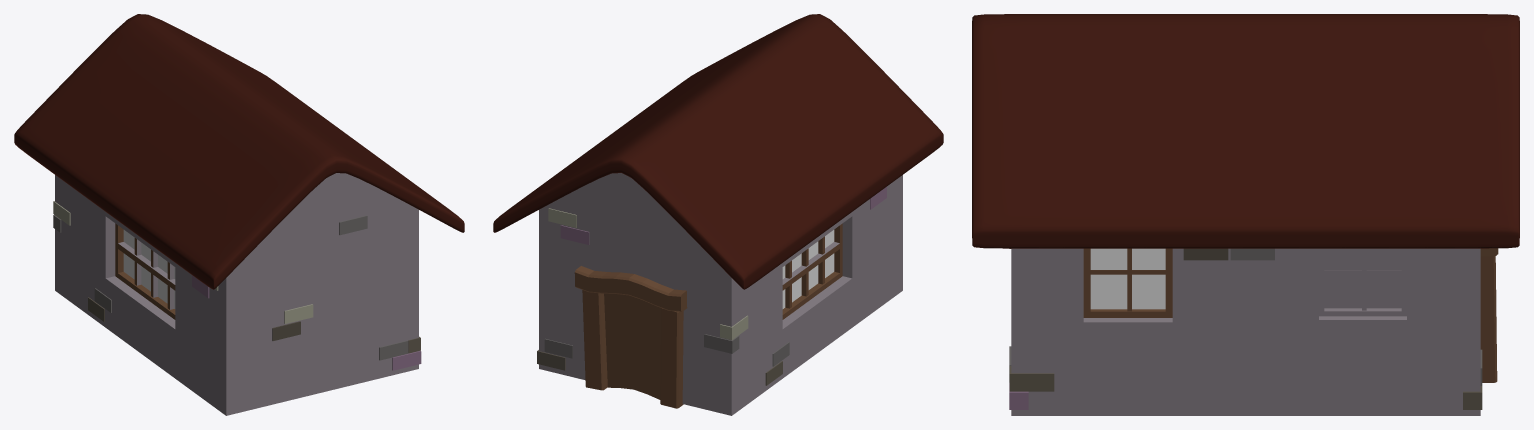
The model's file is house_R1.fbx.
3 views of the same model, side by side, from view 1: azimuth 30°, elevation 25°; view 2: azimuth 150°, elevation 25°; view 3: azimuth 270°, elevation 25° (orthographic). The views are drawn at different scales.
Visible parts, largest first — view 1: Cube.001, Cube, Cube.011, Cube.022; view 2: Cube.001, Cube, Cube.005, Cube.014, Cube.008; view 3: Cube.001, Cube, Cube.005, Cube.013, Brique T4, Cube.009.
Part boxes in pixels (x1,y1,x2,y2): Cube.001: [14, 14, 464, 289]; Cube: [55, 173, 418, 415]; Cube.011: [392, 350, 421, 370]; Cube.022: [284, 304, 313, 323]; Cube.001: [493, 14, 943, 289]; Cube: [539, 173, 902, 415]; Cube.005: [574, 266, 687, 408]; Cube.014: [704, 334, 739, 353]; Cube.008: [560, 225, 589, 244]; Cube.001: [972, 14, 1519, 248]; Cube: [1011, 248, 1480, 415]; Cube.005: [1480, 248, 1498, 382]; Cube.013: [1009, 366, 1054, 391]; Brique T4: [1183, 248, 1228, 260]; Cube.009: [1230, 248, 1274, 260].
Bounding box in the file's own units: 462 × 435 × 638.
